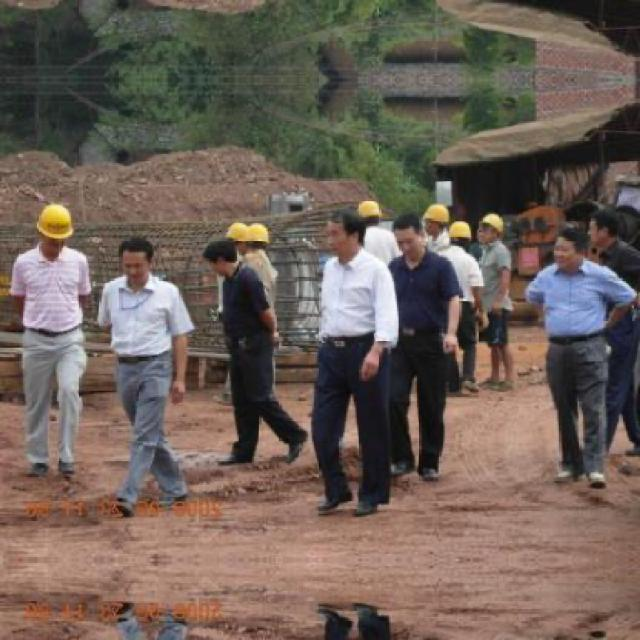con casco: (1, 185, 99, 268), (341, 186, 407, 226), (226, 212, 282, 258), (478, 208, 513, 265)
sin casco: (547, 232, 622, 298), (114, 239, 191, 301), (310, 212, 382, 272), (390, 212, 443, 288), (190, 231, 239, 283)
